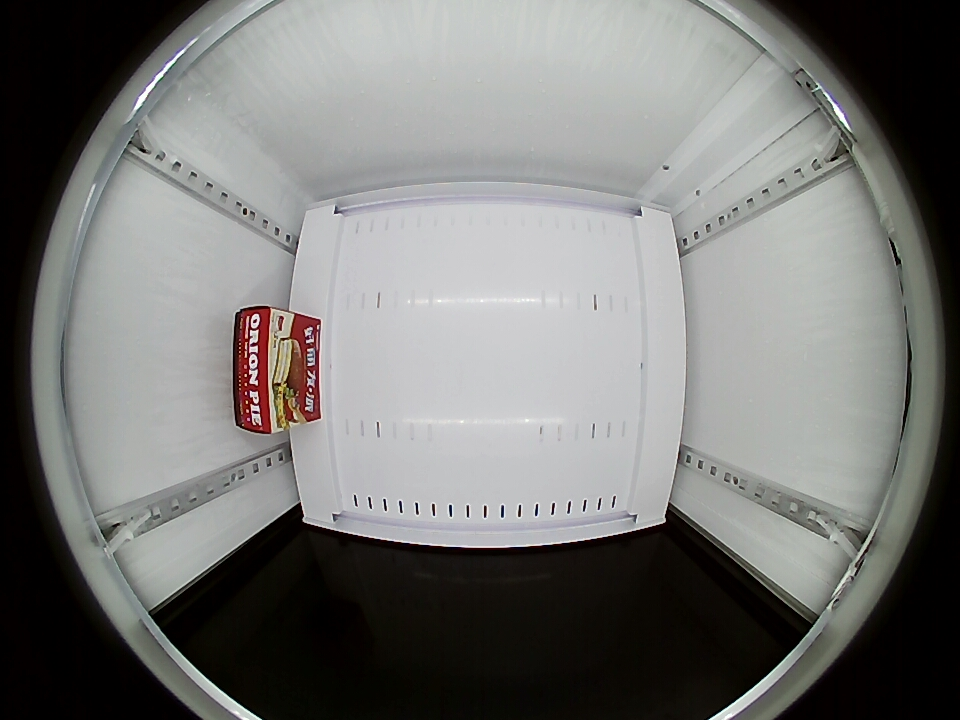haoliyou: (233, 306, 306, 434)
